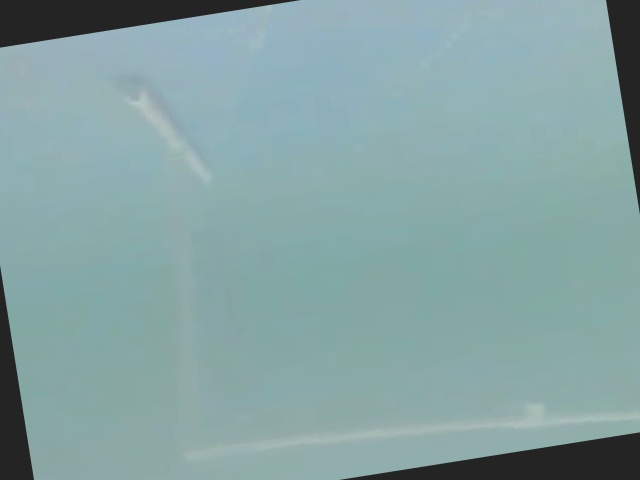gate: (80, 44, 640, 480)
